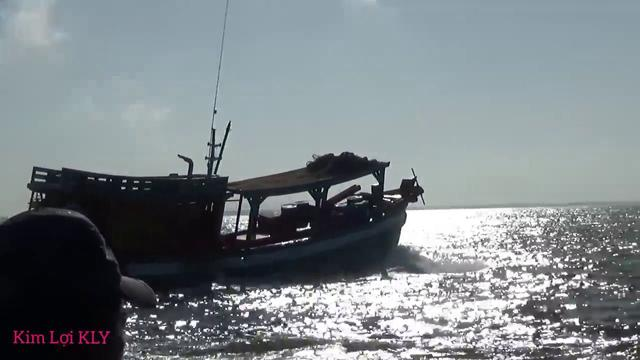Ship: (34, 143, 428, 296)
